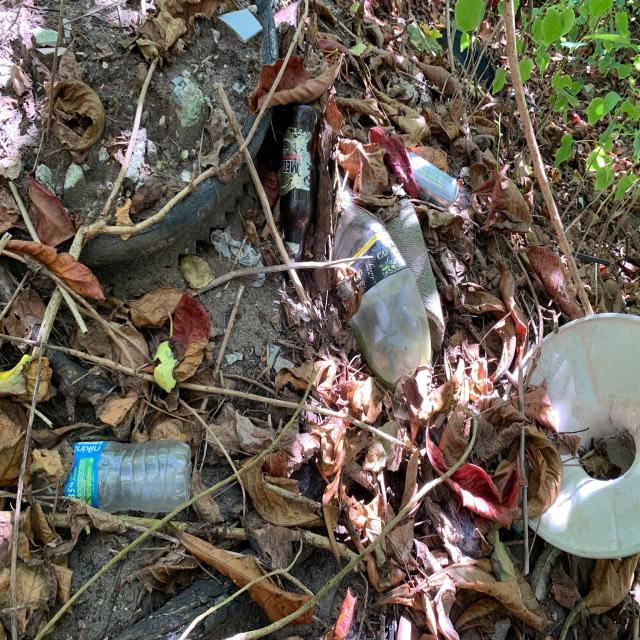litter: (64, 105, 639, 556)
